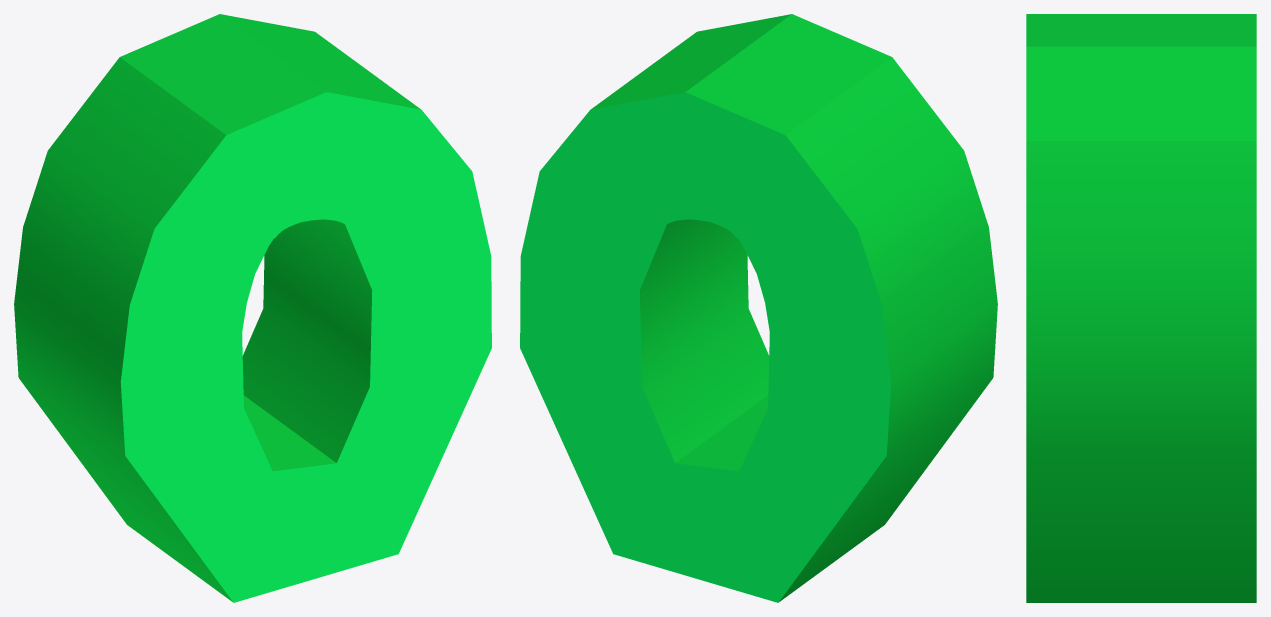
3 views of the same model, side by side, from view 1: azimuth 30°, elevation 25°; view 2: azimuth 150°, elevation 25°; view 3: azimuth 270°, elevation 25° (orthographic). The views are drawn at different scales.
Parts seen in each view (by area): view 1: 0_Zyzol_Green; view 2: 0_Zyzol_Green; view 3: 0_Zyzol_Green.
Part boxes in pixels (left/top/right/bottom): 0_Zyzol_Green: left=14, top=14, right=491, bottom=602; 0_Zyzol_Green: left=520, top=14, right=997, bottom=602; 0_Zyzol_Green: left=1026, top=14, right=1256, bottom=602.
Size of what is drawn, in the model's own units: 0.0904 by 0.1136 by 0.045.
Materials: 2 (2 with a texture image).
